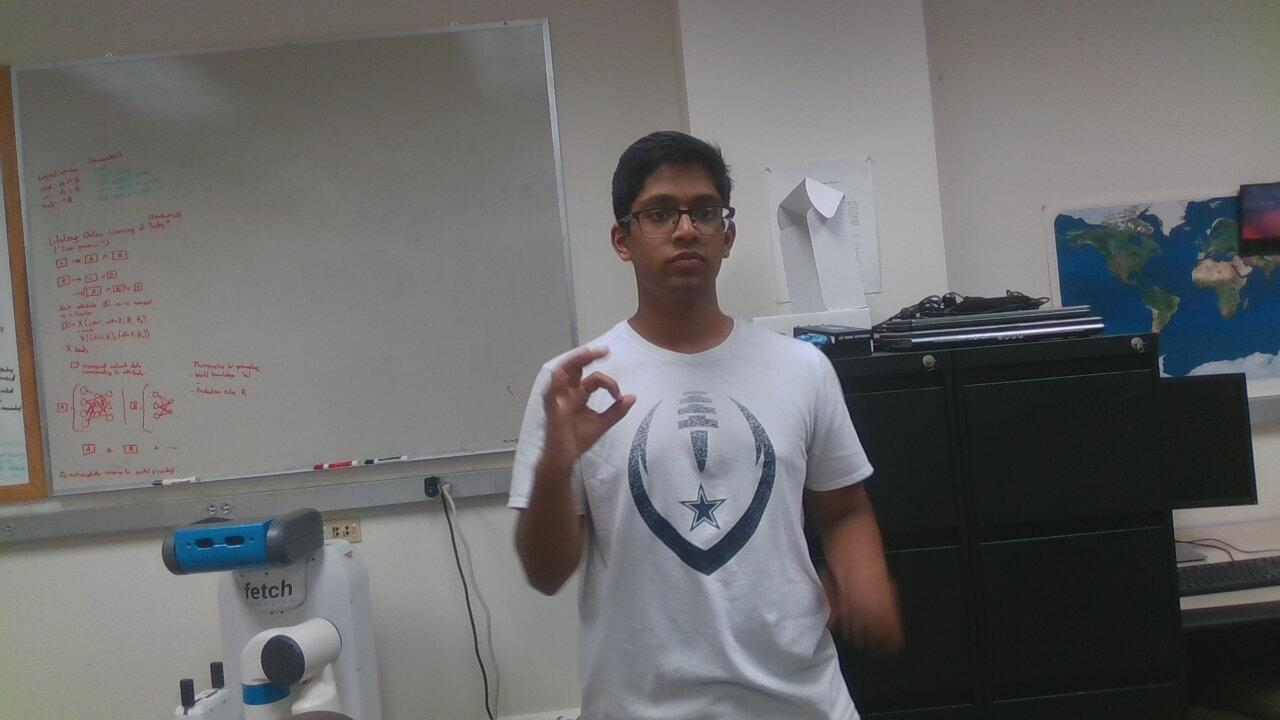hands: (534, 334, 654, 462)
